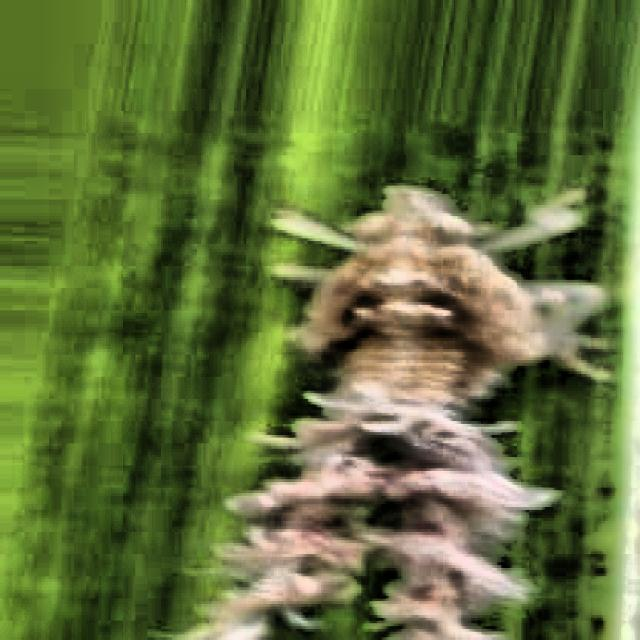Pyrilla-perpusilla: (168, 158, 637, 640)
